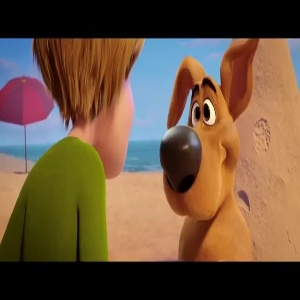Scooby: (154, 37, 261, 224)
